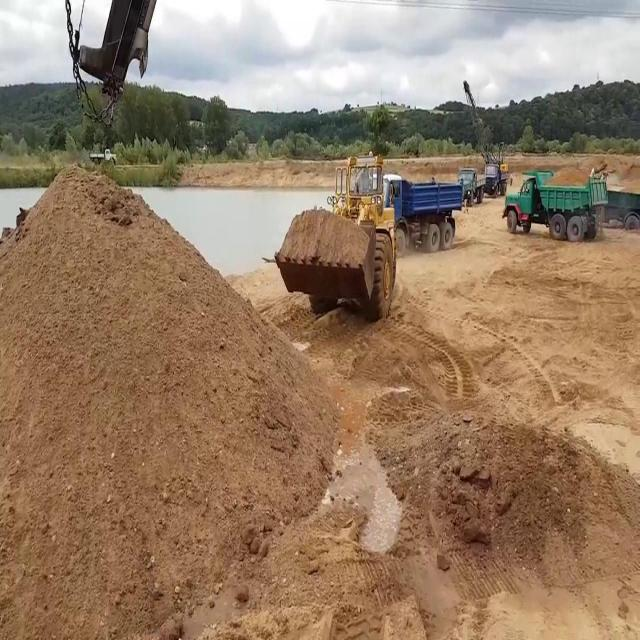Dump Truck: (502, 159, 608, 242), (384, 172, 462, 254), (461, 167, 483, 206), (486, 162, 506, 191)
Loader: (275, 155, 396, 325)
Mobile Crane: (460, 77, 504, 168)
